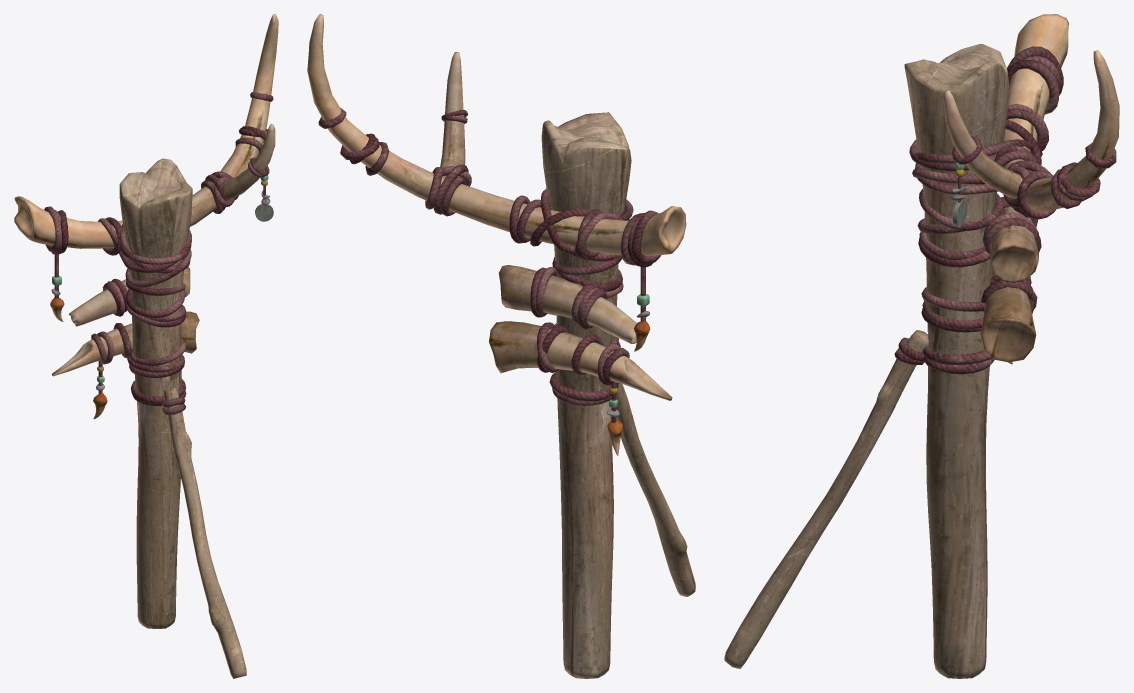
3 views of the same model, side by side, from view 1: azimuth 30°, elevation 25°; view 2: azimuth 150°, elevation 25°; view 3: azimuth 270°, elevation 25° (orthographic). The views are drawn at different scales.
Visible parts, largest first — view 1: SM_Dec_Garou_Set_SM_Trophy_03_LOD0; view 2: SM_Dec_Garou_Set_SM_Trophy_03_LOD0; view 3: SM_Dec_Garou_Set_SM_Trophy_03_LOD0.
Boxes of the visible parts, bbox=[...] form: SM_Dec_Garou_Set_SM_Trophy_03_LOD0: bbox=[14, 14, 278, 678]; SM_Dec_Garou_Set_SM_Trophy_03_LOD0: bbox=[307, 14, 695, 678]; SM_Dec_Garou_Set_SM_Trophy_03_LOD0: bbox=[724, 14, 1119, 678].
Bounding box in the file's own units: 1.45 × 2.66 × 1.3.
1 material, 1 textured.
